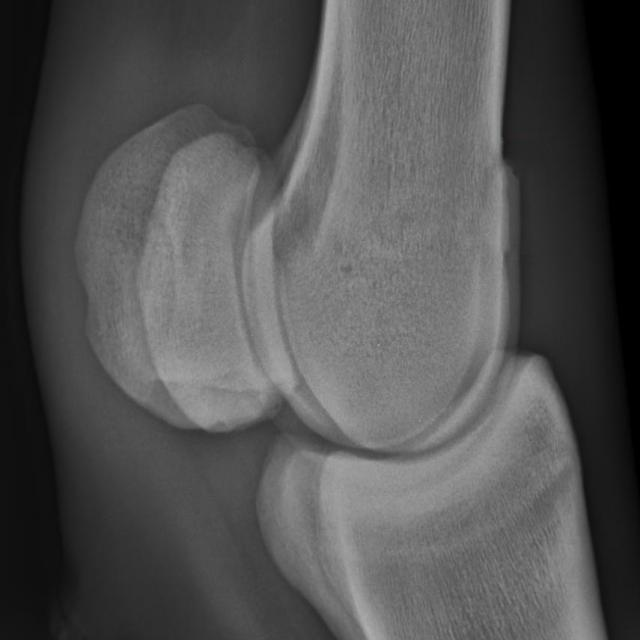bone remodeling: (438, 93, 574, 323)
